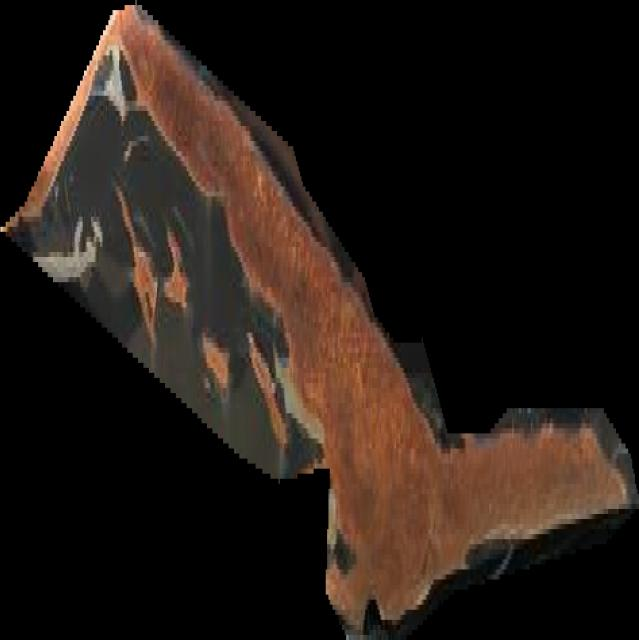Uniform Corrosion: (0, 0, 639, 640)
